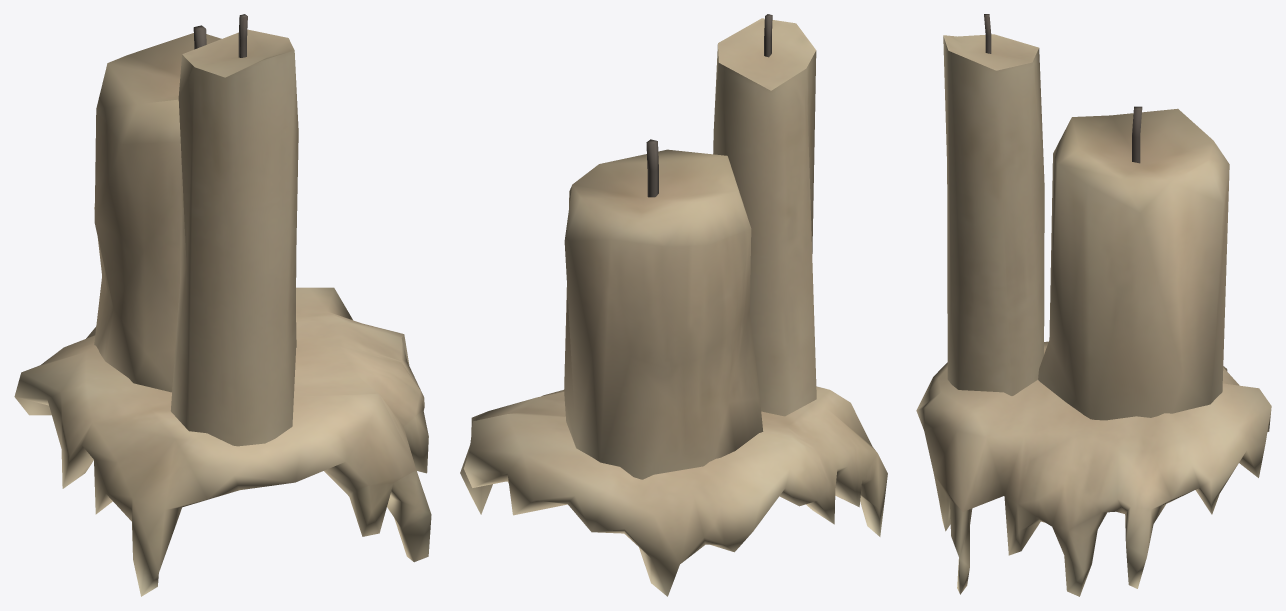
Rendered from SM_Candles_3.fbx.
3 views of the same model, side by side, from view 1: azimuth 30°, elevation 25°; view 2: azimuth 150°, elevation 25°; view 3: azimuth 270°, elevation 25° (orthographic). The views are drawn at different scales.
Parts seen in each view (by area): view 1: SM_Candles_3_LOD0; view 2: SM_Candles_3_LOD0; view 3: SM_Candles_3_LOD0.
Boxes of the visible parts, x1,y1,x2,y2 form: SM_Candles_3_LOD0: (14, 14, 431, 596); SM_Candles_3_LOD0: (460, 14, 887, 596); SM_Candles_3_LOD0: (916, 14, 1271, 596).
Bounding box in the file's own units: 23.25 × 21.7 × 34.12.
